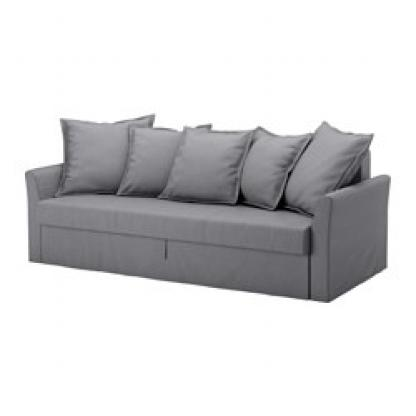Sofa: (17, 73, 391, 318)
